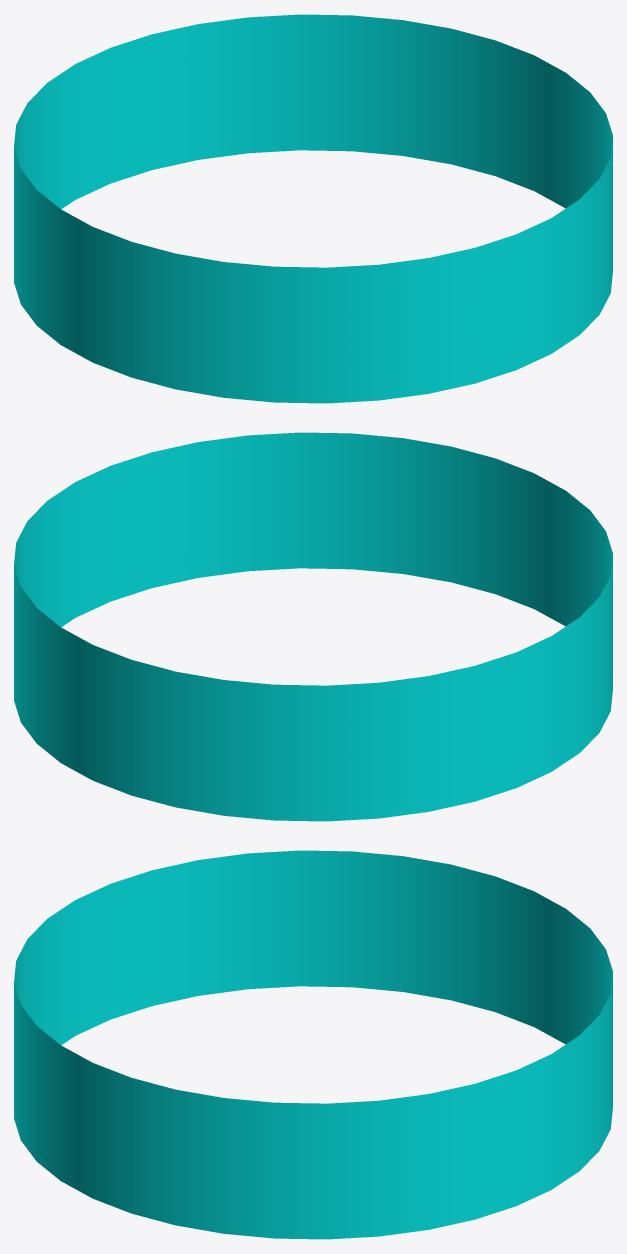
Rendered from original-4.obj.
3 renders of one model, top to bottom at view 1: azimuth 30°, elevation 25°; view 2: azimuth 150°, elevation 25°; view 3: azimuth 270°, elevation 25°, orthographic.
Parts seen in each view (by area): view 1: #ID13; view 2: #ID13; view 3: #ID13.
Part boxes in pixels (x1,y1,x2,y2): #ID13: (14, 14, 612, 403); #ID13: (14, 432, 612, 821); #ID13: (14, 850, 612, 1239).
Bounding box in the file's own units: 0.0464 × 0.0116 × 0.0464.
